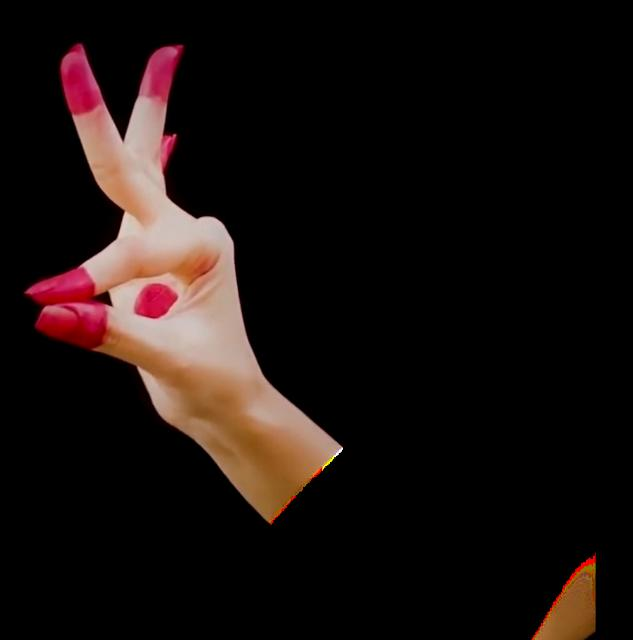hansaasya: (27, 46, 344, 533)
